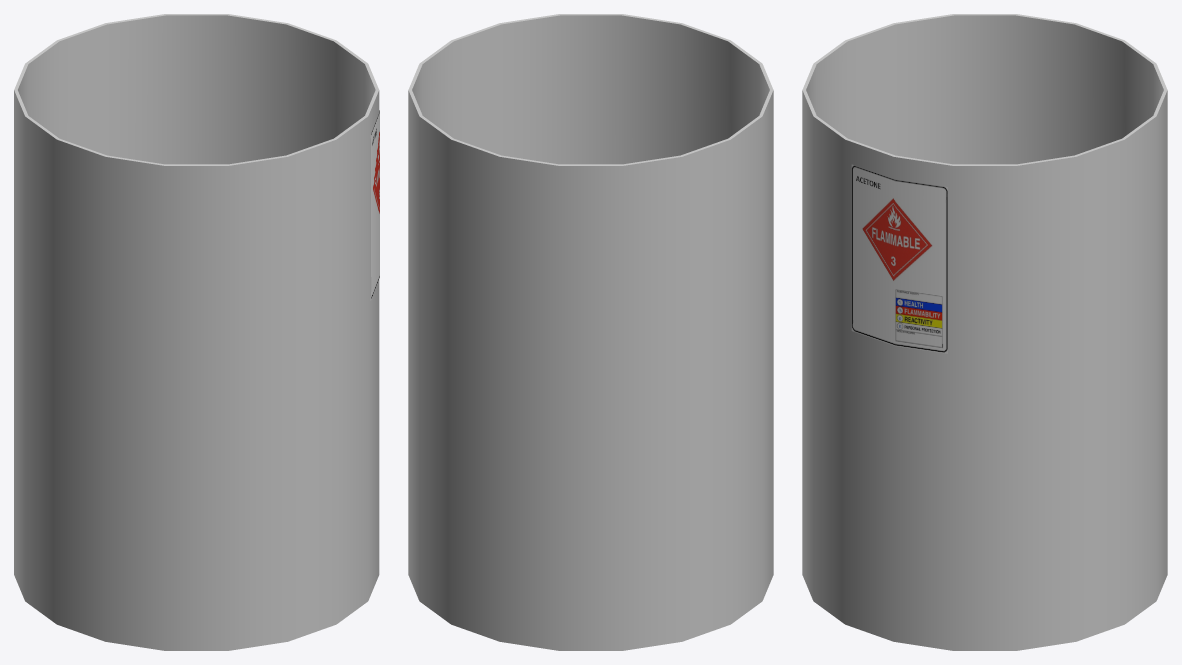
The model's file is Acetone_Drum.fbx.
3 views of the same model, side by side, from view 1: azimuth 30°, elevation 25°; view 2: azimuth 150°, elevation 25°; view 3: azimuth 270°, elevation 25° (orthographic).
Visible parts, largest first — view 1: 55_Gal_Drum_, 55_Gal_Drum_Label_Low.008; view 2: 55_Gal_Drum_; view 3: 55_Gal_Drum_, 55_Gal_Drum_Label_Low.008.
Part boxes in pixels (x1,y1,x2,y2): 55_Gal_Drum_: (14, 14, 379, 650); 55_Gal_Drum_Label_Low.008: (370, 110, 379, 300); 55_Gal_Drum_: (408, 14, 773, 650); 55_Gal_Drum_: (802, 14, 1167, 650); 55_Gal_Drum_Label_Low.008: (851, 164, 947, 353).
Bounding box in the file's own units: 57.12 × 85 × 58.
